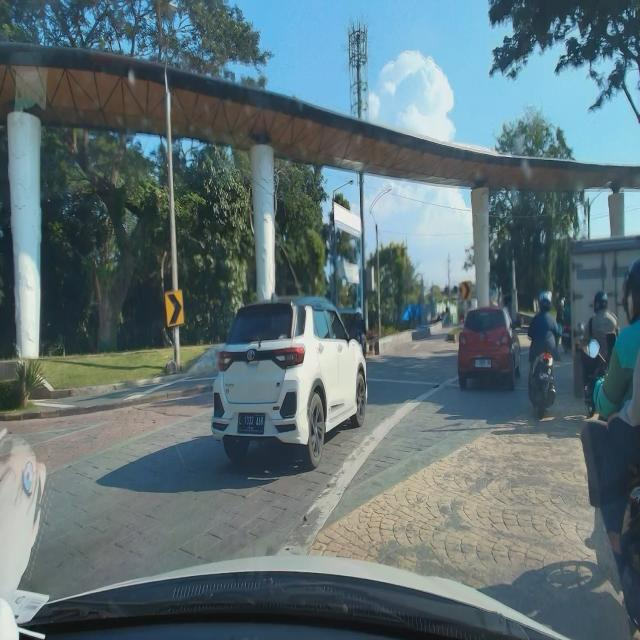car: (211, 287, 369, 473), (457, 303, 522, 390)
license-plate: (238, 413, 266, 433), (474, 358, 492, 368)
